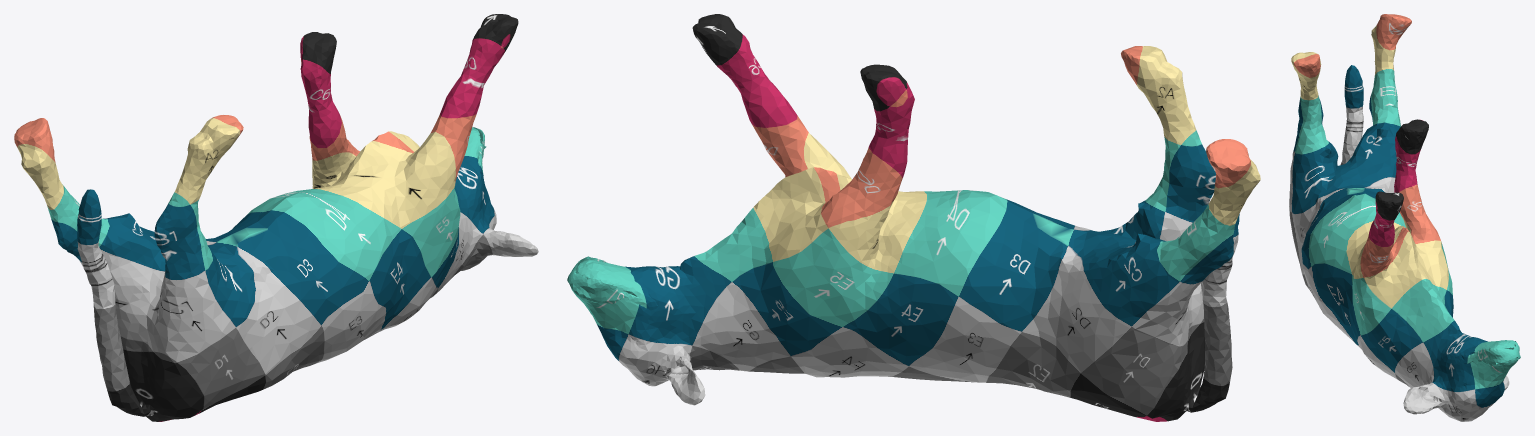
File: horse_08-cow_06.obj
The picture shows the model from 3 angles, left to right: view 1: azimuth 30°, elevation 25°; view 2: azimuth 150°, elevation 25°; view 3: azimuth 270°, elevation 25°; orthographic projection. The views are drawn at different scales.
Visible parts, largest first — view 1: horse_08-cow_06_export; view 2: horse_08-cow_06_export; view 3: horse_08-cow_06_export.
Part boxes in pixels (left/top/right/bottom): horse_08-cow_06_export: left=14, top=14, right=538, bottom=421; horse_08-cow_06_export: left=567, top=14, right=1260, bottom=421; horse_08-cow_06_export: left=1289, top=14, right=1520, bottom=421.
Bounding box in the file's own units: 0.9906 × 0.5382 × 0.4724.
